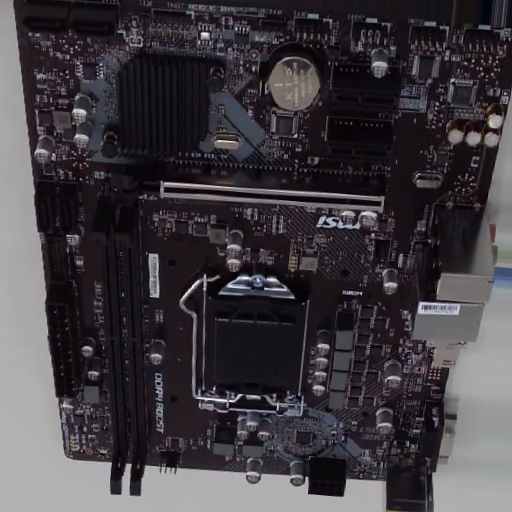CPU: (196, 276, 311, 414)
GPU: (108, 176, 392, 214)
MOTHERBOARD: (41, 26, 507, 486)
RAM: (97, 195, 152, 498)
